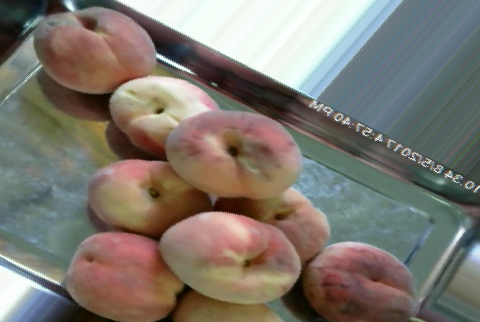Peach: (161, 211, 299, 303), (166, 111, 299, 201), (33, 6, 157, 93), (66, 229, 182, 321), (86, 155, 211, 235), (107, 71, 218, 158), (302, 241, 415, 322), (213, 186, 332, 261)
